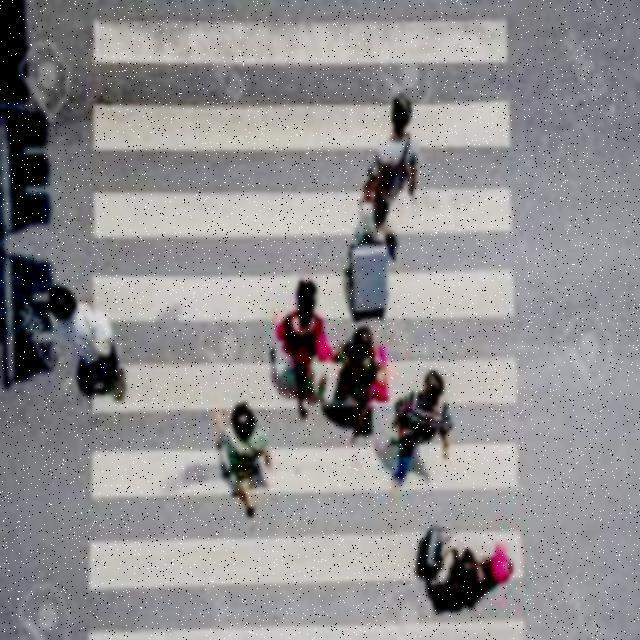Pedestrian crosswalk: (64, 0, 521, 637)
